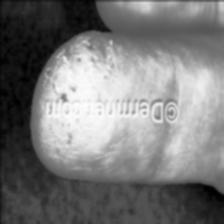Non-Cancerous Skin Condition: (55, 44, 116, 98), (54, 118, 94, 156)
